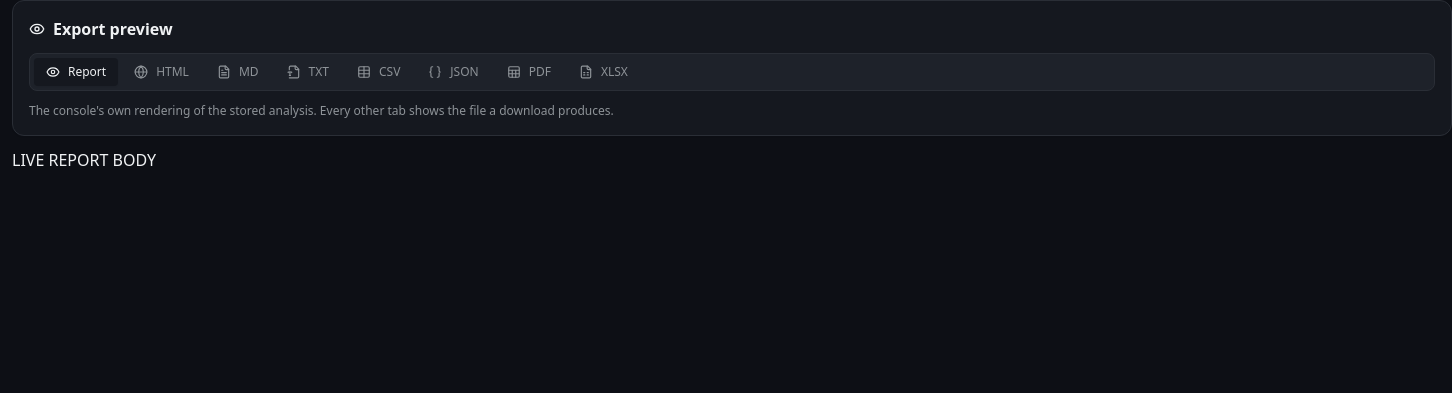
it: ReportPreview › describes a spreadsheet instead of claiming the export is empty
Click the tab "XLSX" at (604,72), box [567,58,640,86]
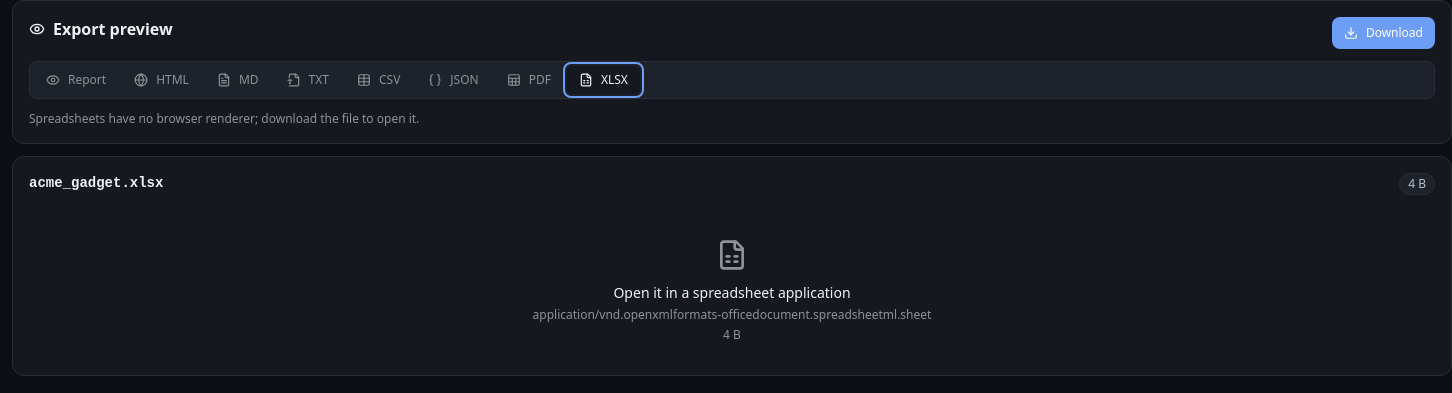
Result: the text "Spreadsheets have no browser renderer" is shown at [29,110,419,127]
Result: the text "Open it in a spreadsheet application" is shown at [613,283,850,302]
Result: the heading "acme_gadget.xlsx" is shown at [29,173,163,193]
